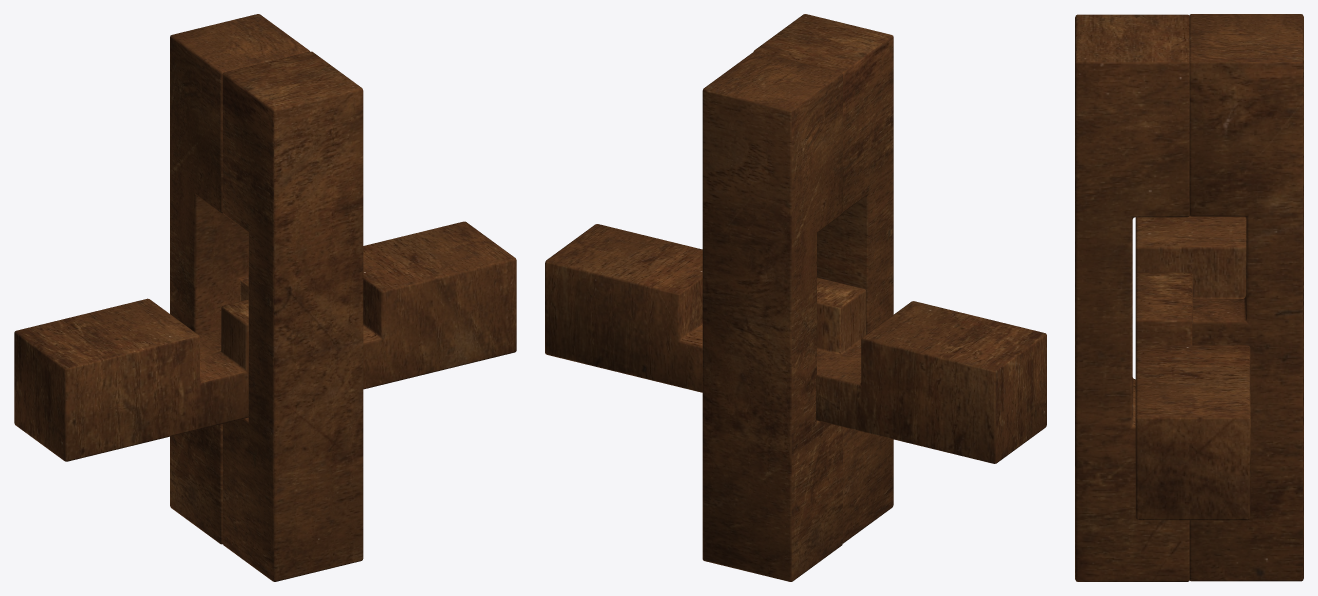
Rendered from step_03_luban_a_b_c.glb.
3 views of the same model, side by side, from view 1: azimuth 30°, elevation 25°; view 2: azimuth 150°, elevation 25°; view 3: azimuth 270°, elevation 25° (orthographic). The views are drawn at different scales.
Parts seen in each view (by area): view 1: luban_c, luban_a, luban_b; view 2: luban_b, luban_a, luban_c; view 3: luban_b, luban_c, luban_a.
Boxes of the visible parts, box(x1,y1,x2,y2) form: luban_c: box(222, 51, 363, 581); luban_a: box(14, 221, 516, 461); luban_b: box(170, 14, 309, 544); luban_b: box(702, 52, 842, 581); luban_a: box(545, 224, 1046, 463); luban_c: box(753, 14, 893, 543); luban_b: box(1189, 14, 1303, 581); luban_c: box(1075, 14, 1189, 581); luban_a: box(1135, 216, 1250, 520).
Size of the model in its own units: 10 by 10 by 3.98.
Materials: 1 (1 with a texture image).
